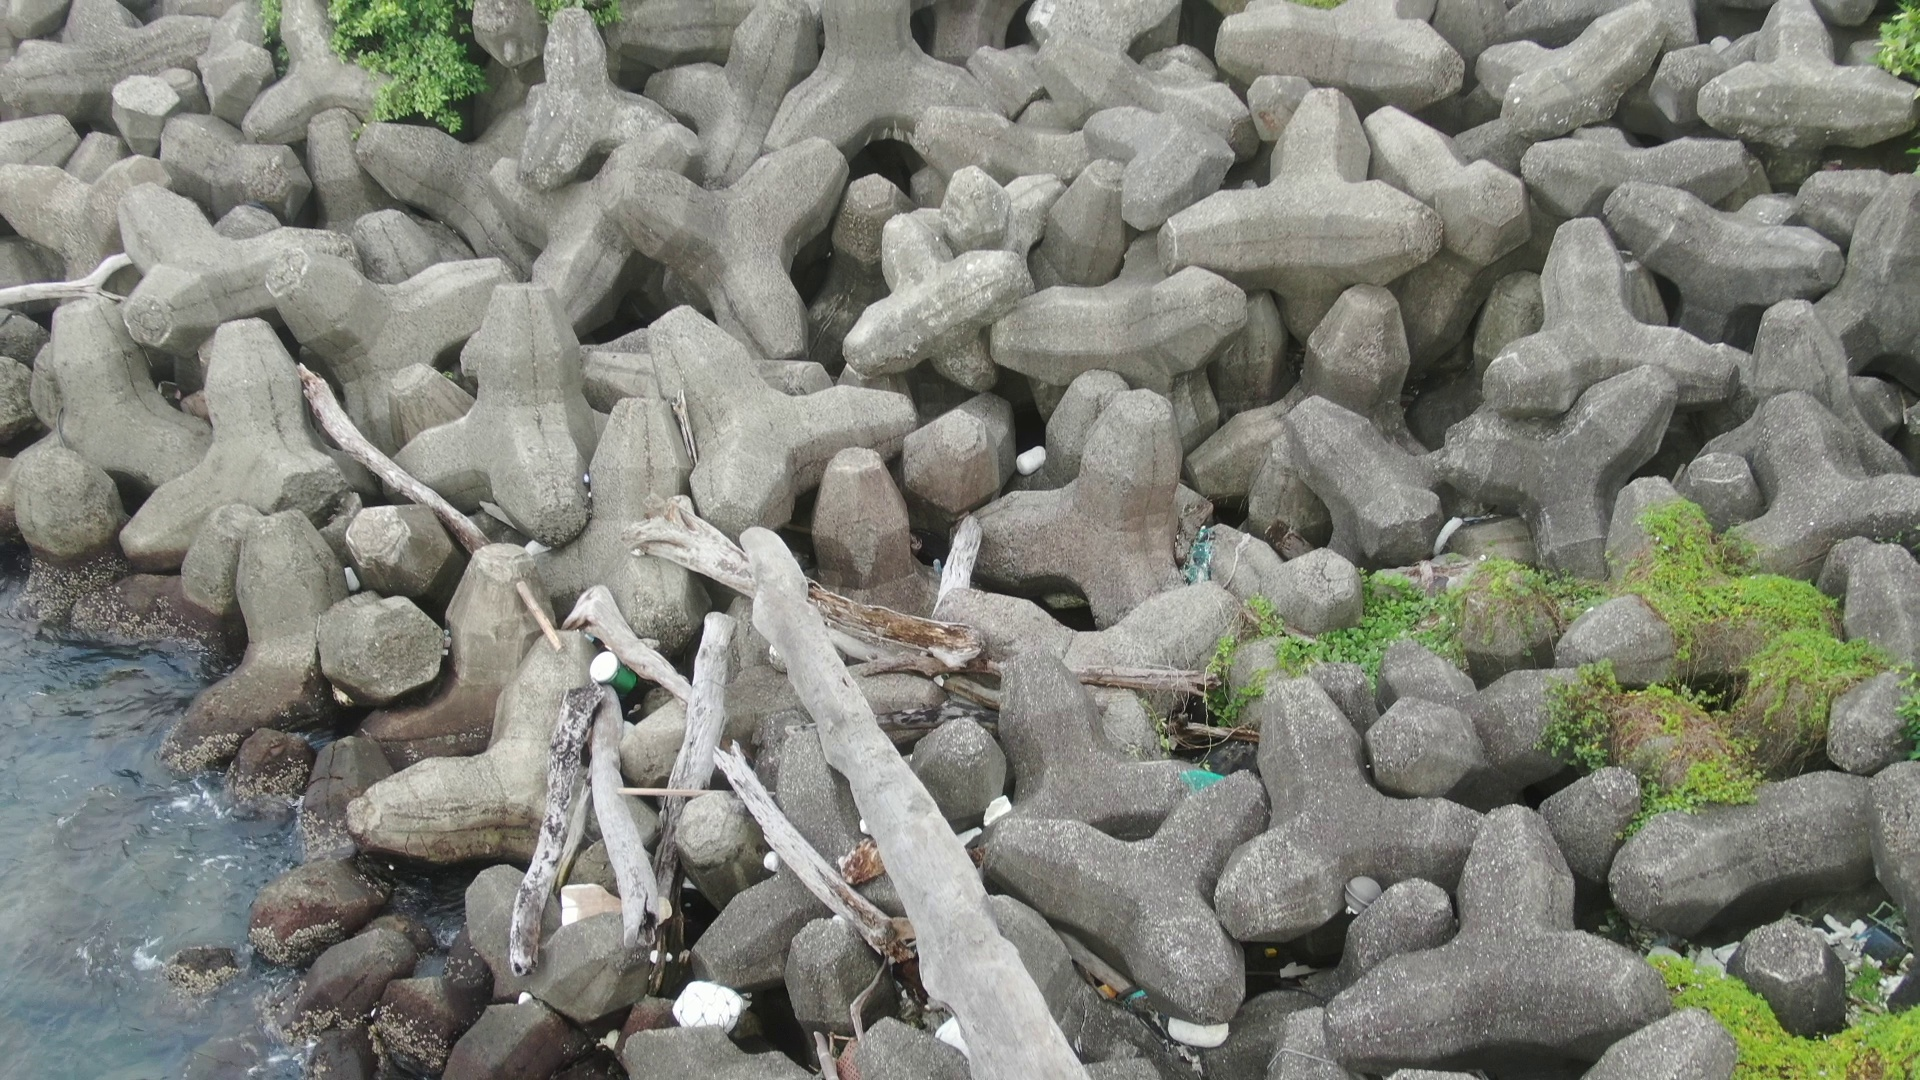garbage: (1821, 894, 1913, 1036), (1607, 905, 1753, 985), (665, 971, 757, 1044), (1166, 517, 1253, 592), (1269, 944, 1346, 1004), (1150, 1011, 1250, 1052), (1433, 517, 1495, 564), (580, 649, 645, 692), (1337, 876, 1389, 922), (833, 1025, 873, 1080), (1015, 438, 1055, 479)
